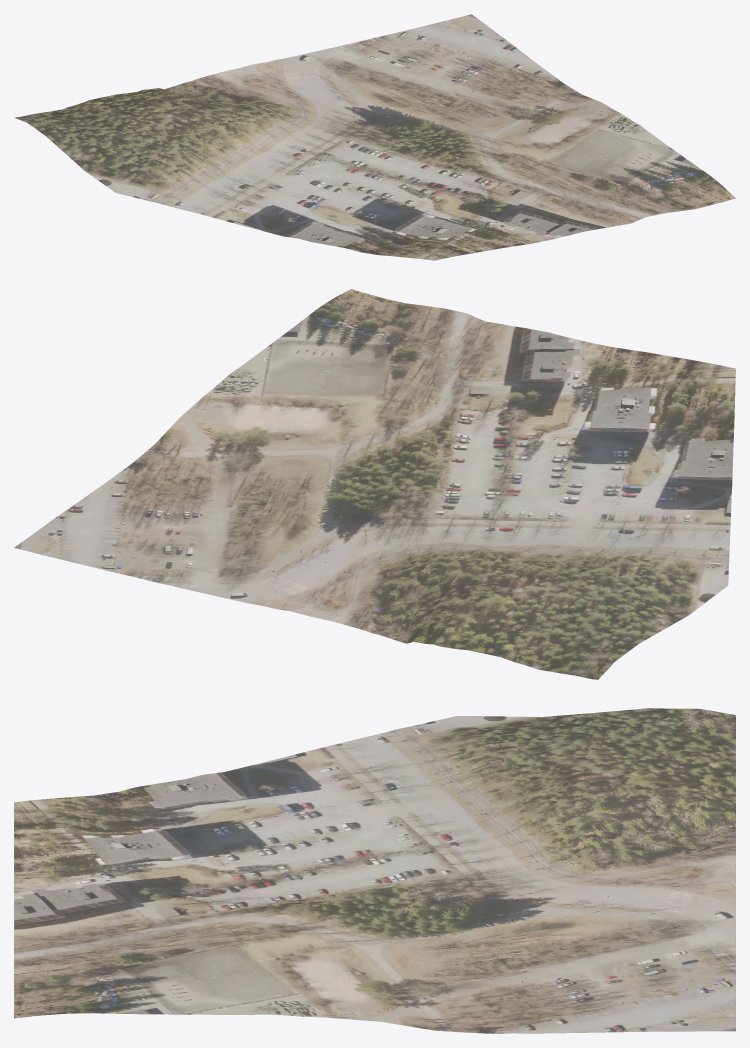
The model's file is CM_Terrain_24491278_6815288.fbx.
3 views of the same model, one above another, from view 1: azimuth 30°, elevation 25°; view 2: azimuth 150°, elevation 25°; view 3: azimuth 270°, elevation 25° (orthographic). The views are drawn at different scales.
Parts seen in each view (by area): view 1: CM_Terrain_24491278_6815288_LOD0; view 2: CM_Terrain_24491278_6815288_LOD0; view 3: CM_Terrain_24491278_6815288_LOD0.
Part boxes in pixels (left/top/right/bottom): CM_Terrain_24491278_6815288_LOD0: left=14, top=14, right=735, bottom=260; CM_Terrain_24491278_6815288_LOD0: left=14, top=289, right=735, bottom=679; CM_Terrain_24491278_6815288_LOD0: left=14, top=708, right=735, bottom=1033.
Size of what is drawn, in the model's own units: 205 by 9.97 by 205.
